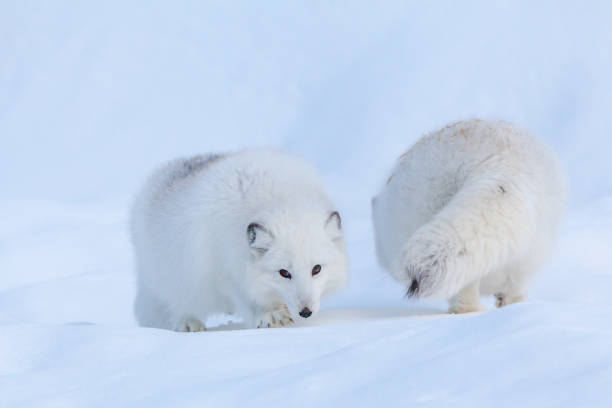arcticfox: (266, 236, 333, 319)
